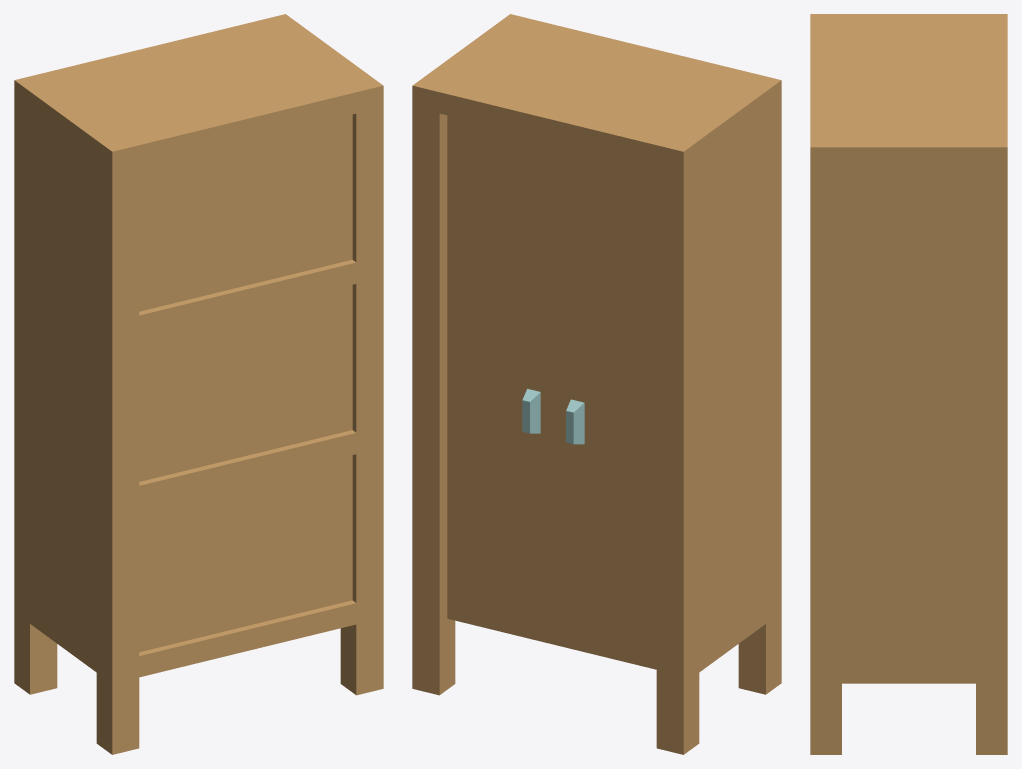
Rendered from bookcaseClosedDoors.glb.
The picture shows the model from 3 angles, left to right: view 1: azimuth 30°, elevation 25°; view 2: azimuth 150°, elevation 25°; view 3: azimuth 270°, elevation 25°; orthographic projection.
Size of the model in its own units: 4 by 8.5 by 2.5.
